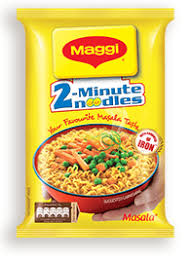maggie: (15, 9, 173, 236)
